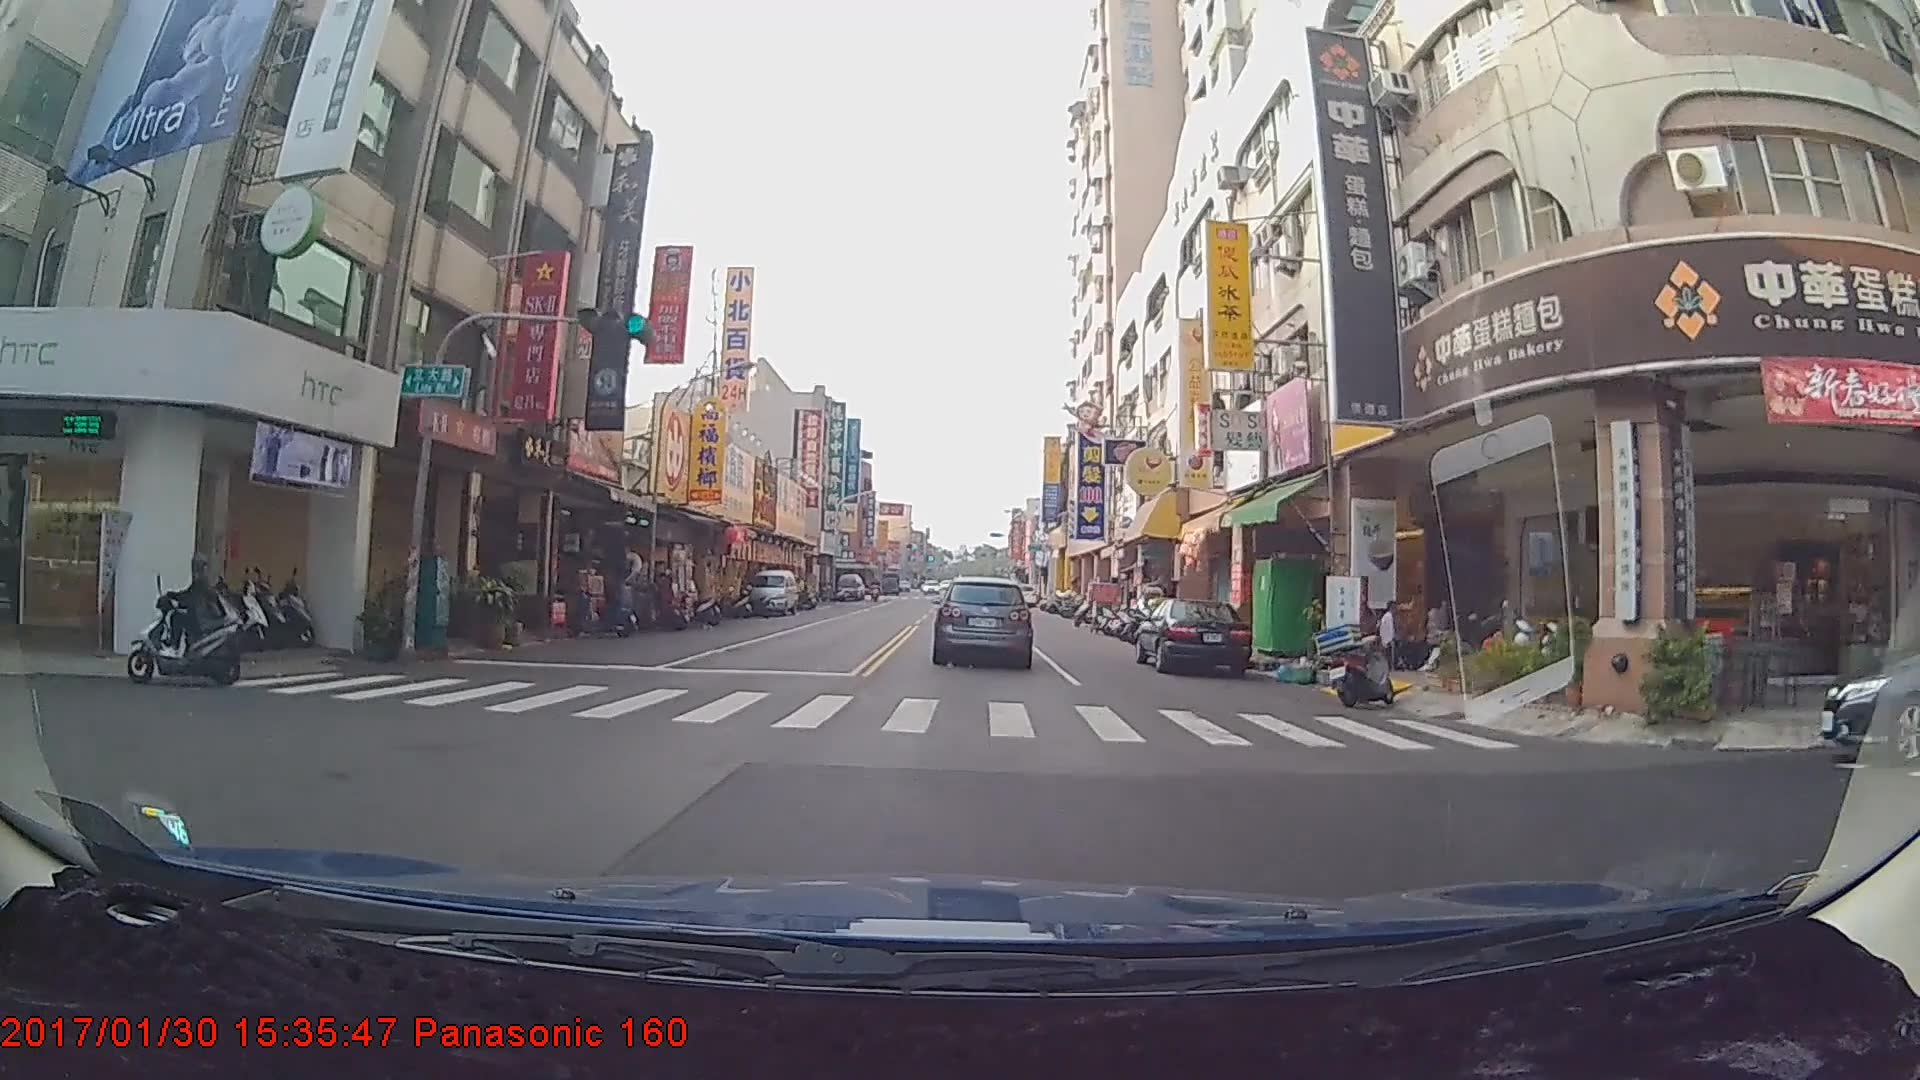pedestrian: (1414, 599, 1448, 674), (1373, 597, 1406, 672)
rider: (114, 554, 245, 688)
vehicle: (1131, 595, 1252, 677), (933, 575, 1031, 666), (742, 568, 795, 617), (837, 573, 866, 602)
